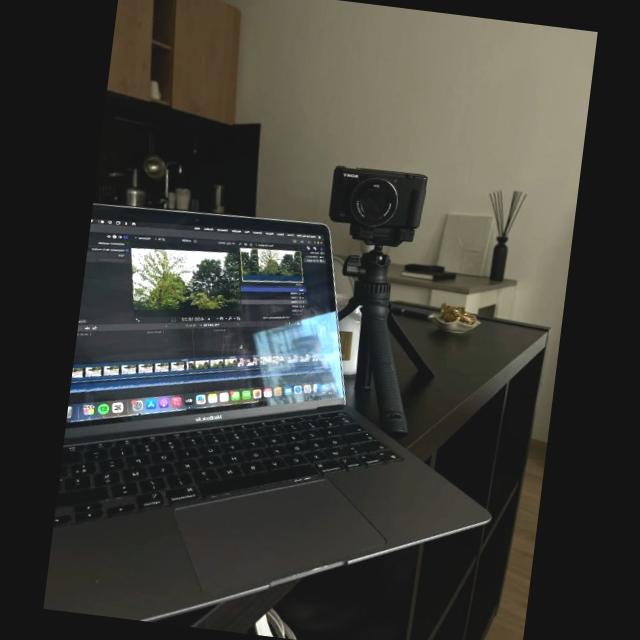laptop: (48, 200, 450, 612)
